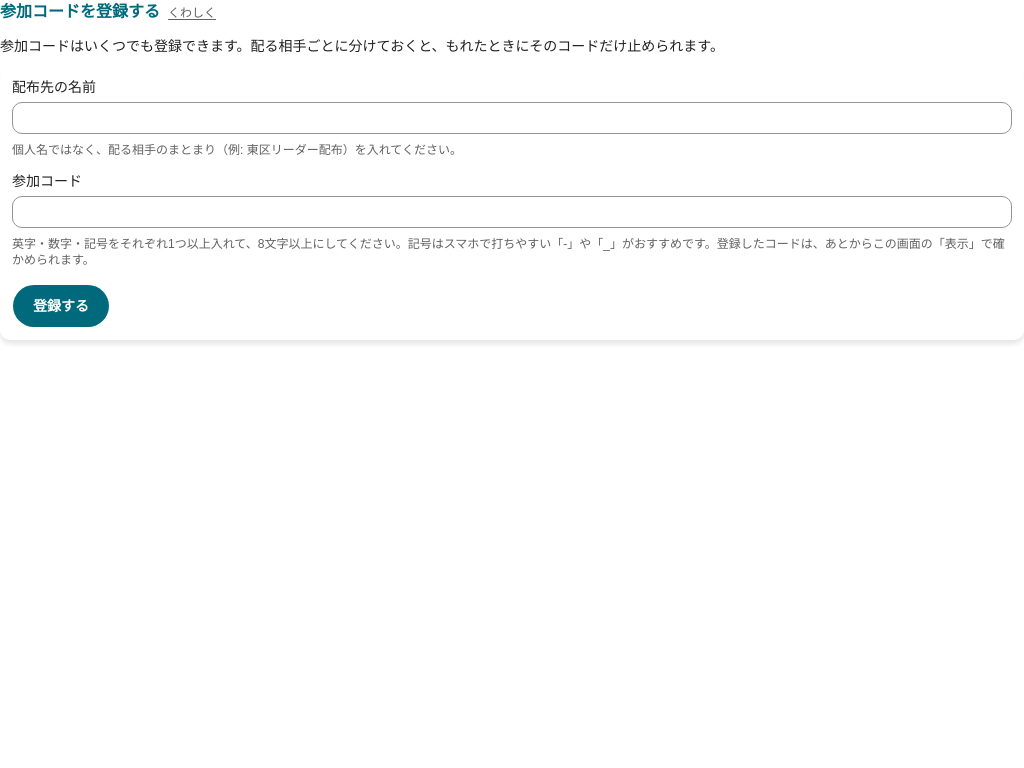
登録に失敗したら理由を出し、入力は残す
Type "東区" into the field labelled "配布先の名前".
click(512, 118); type("東区")  # box 12,102 -> 1012,134
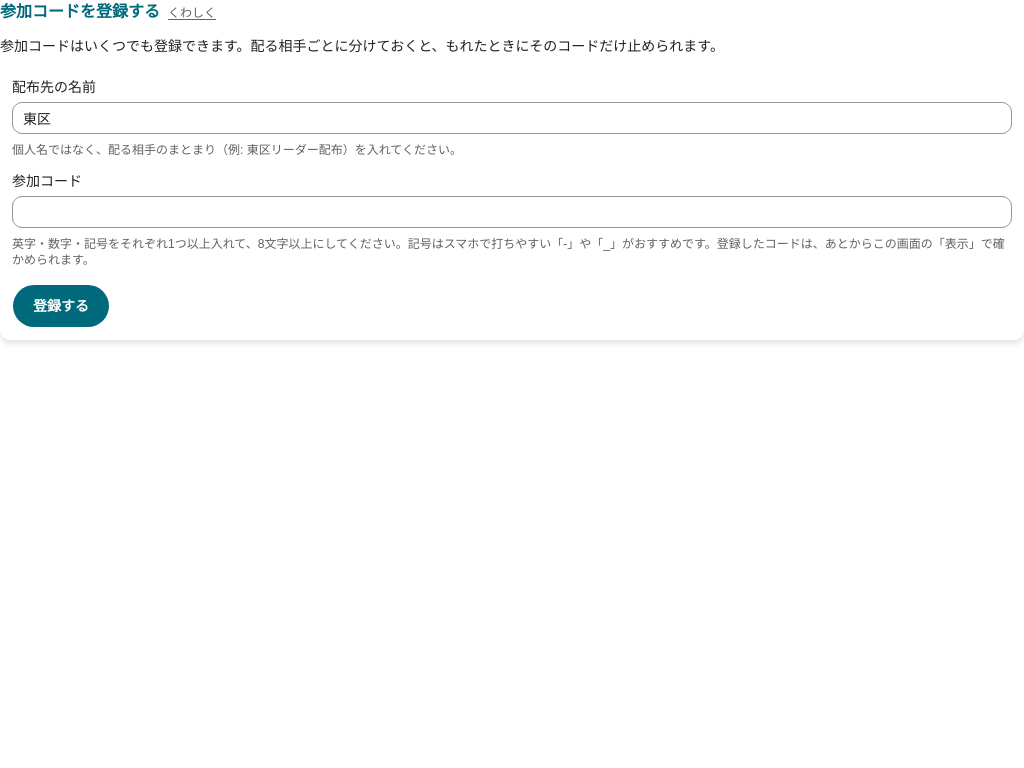
Type "abcd-1234" into the field labelled "参加コード".
click(512, 212); type("abcd-1234")  # box 12,196 -> 1012,228
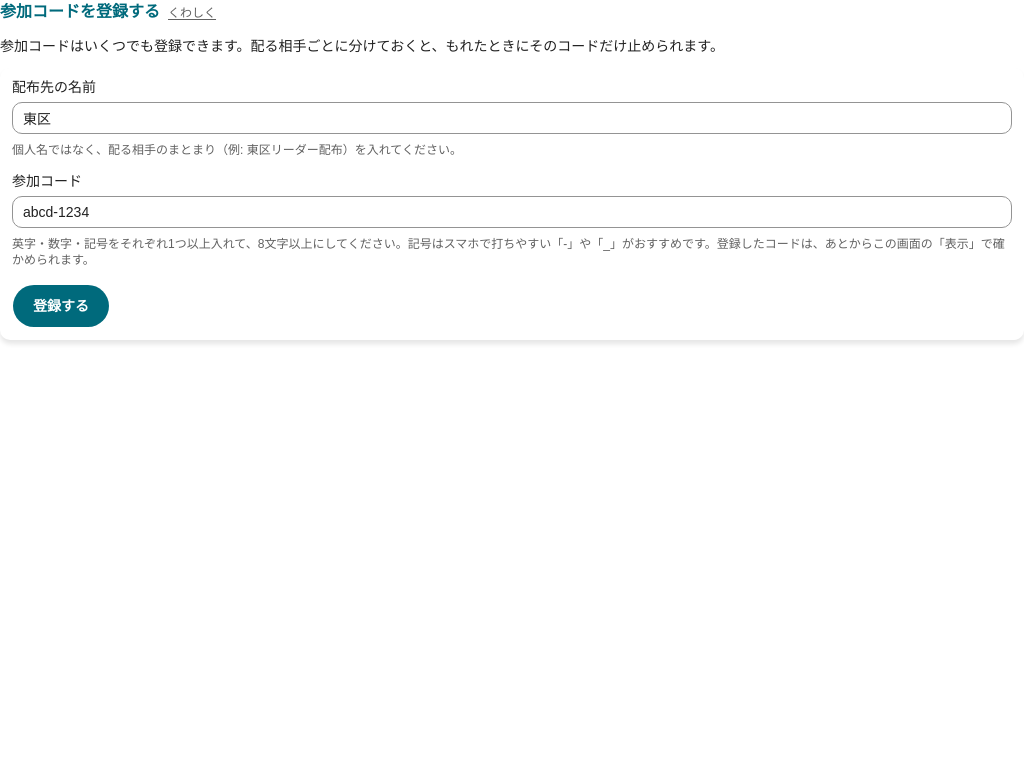
Click the button "登録する".
click(61, 306)  # box 12,284 -> 110,328
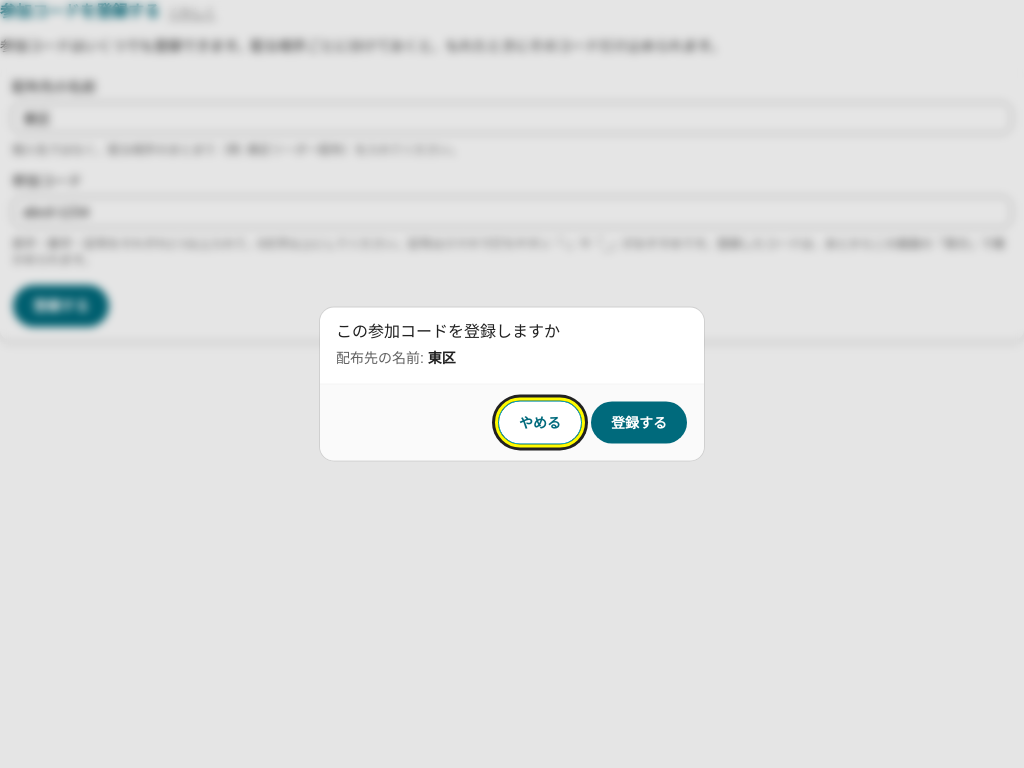
Expected: the dialog is shown, 320,308 -> 704,460
Click the button "登録する".
click(639, 422)  # box 590,400 -> 688,444
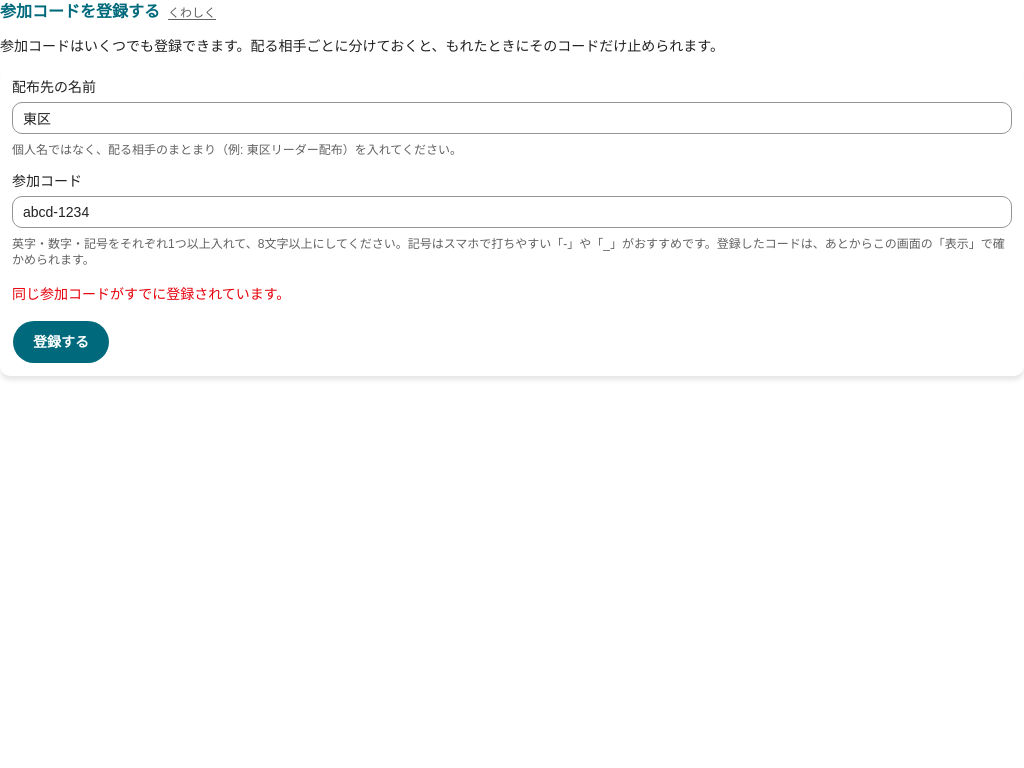
Expected: the message shows "すでに登録されています", 12,286 -> 290,302
